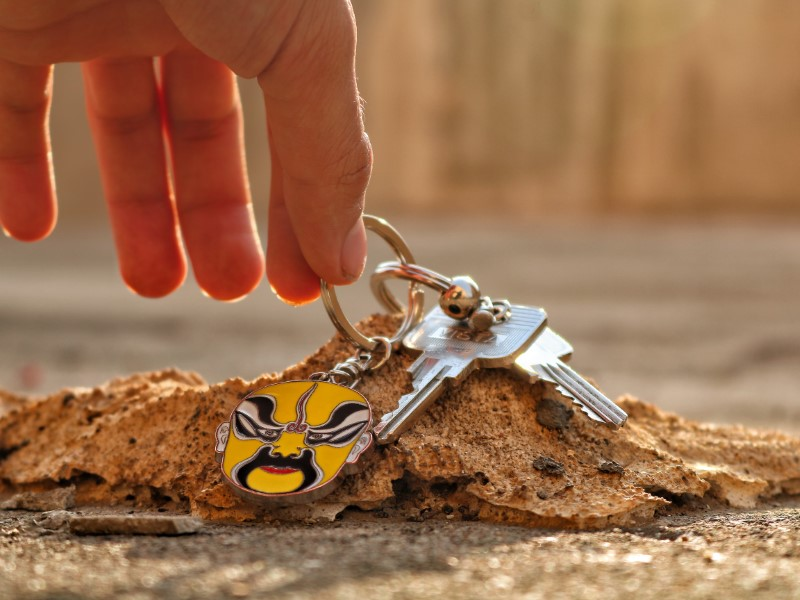key: (367, 285, 634, 444)
